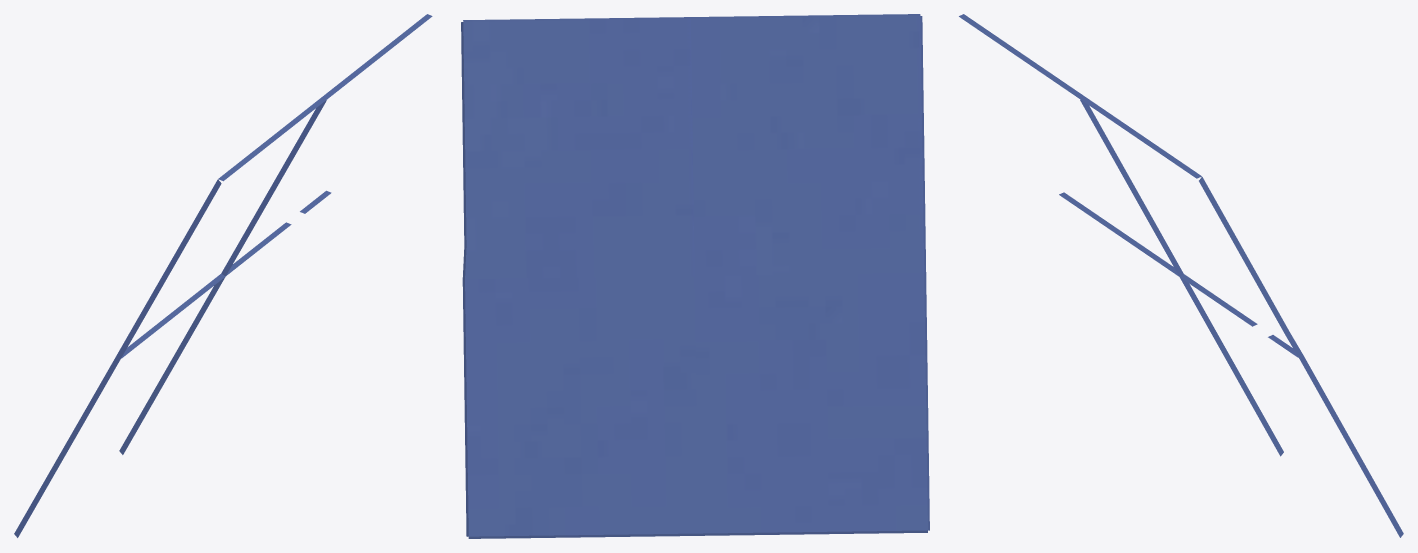
3 views of the same model, side by side, from view 1: azimuth 30°, elevation 25°; view 2: azimuth 150°, elevation 25°; view 3: azimuth 270°, elevation 25° (orthographic). The views are drawn at different scales.
Bounding box in the file's own units: 39506 × 35104 × 34306.
1 material, 1 textured.
